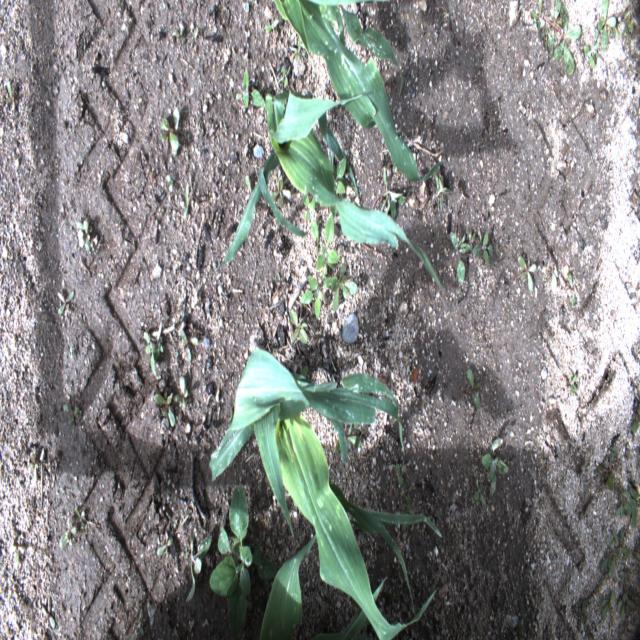crop: (210, 349, 442, 639), (216, 78, 441, 287), (272, 0, 445, 181), (258, 522, 324, 639), (310, 576, 387, 640)
weed: (210, 484, 278, 638), (531, 0, 581, 75), (185, 524, 212, 601), (372, 166, 408, 223), (299, 275, 337, 320), (314, 210, 339, 277), (482, 437, 510, 495), (322, 157, 346, 222), (330, 262, 357, 312), (449, 228, 471, 288), (142, 321, 164, 378), (236, 72, 266, 109), (159, 105, 181, 154), (605, 526, 633, 564), (432, 171, 456, 214), (301, 186, 319, 240), (617, 485, 639, 528), (598, 0, 616, 52), (582, 27, 603, 70), (178, 323, 199, 364), (471, 229, 494, 265), (270, 168, 290, 208), (153, 392, 175, 428), (290, 308, 310, 346), (59, 514, 79, 550), (517, 256, 537, 290), (466, 368, 482, 408), (76, 216, 93, 252), (595, 464, 615, 492), (618, 591, 636, 622), (335, 435, 362, 454), (174, 374, 188, 409), (601, 591, 616, 622), (63, 402, 83, 425), (6, 80, 18, 118), (288, 34, 303, 64), (601, 547, 616, 577), (42, 596, 56, 628), (156, 528, 172, 556), (57, 290, 74, 316), (400, 492, 411, 531), (620, 10, 633, 43), (424, 503, 442, 526), (172, 20, 187, 46), (475, 477, 488, 507), (576, 600, 588, 631), (28, 449, 38, 484), (10, 544, 24, 569), (277, 64, 291, 87), (568, 270, 576, 308), (73, 506, 85, 530), (394, 462, 406, 486), (631, 398, 639, 433), (606, 20, 619, 40), (265, 18, 280, 33), (184, 180, 189, 218), (468, 228, 475, 254), (608, 445, 618, 462), (245, 174, 252, 198), (570, 373, 578, 393), (166, 173, 172, 194), (298, 366, 307, 379)
